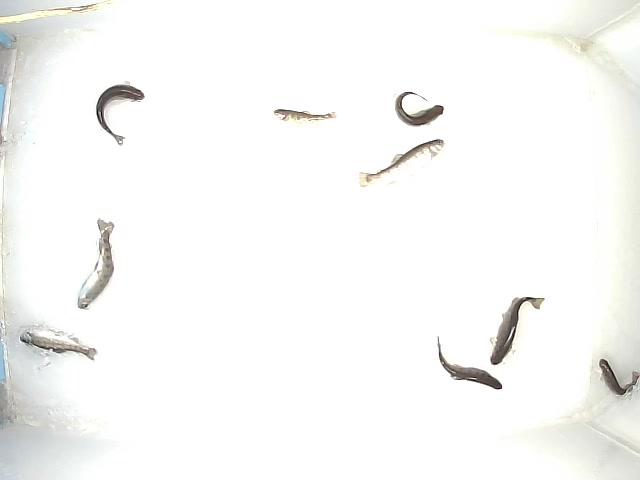fish: (428, 329, 503, 392), (355, 135, 445, 187), (489, 294, 547, 366), (77, 216, 116, 311), (95, 81, 146, 147), (19, 326, 99, 364), (395, 89, 445, 126), (599, 358, 640, 398), (273, 106, 337, 127)
